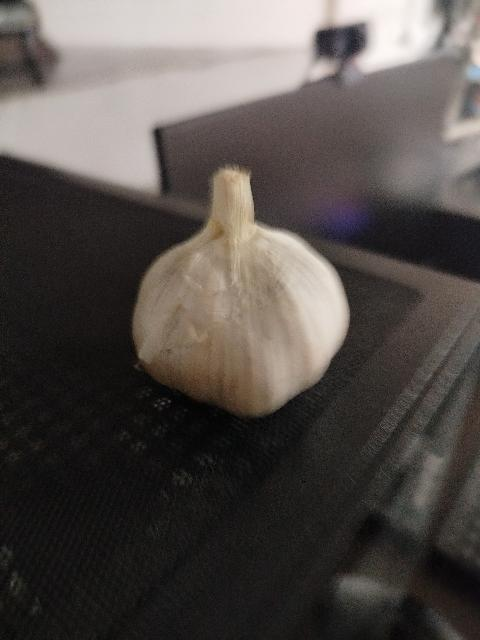garlic: (131, 164, 351, 420)
